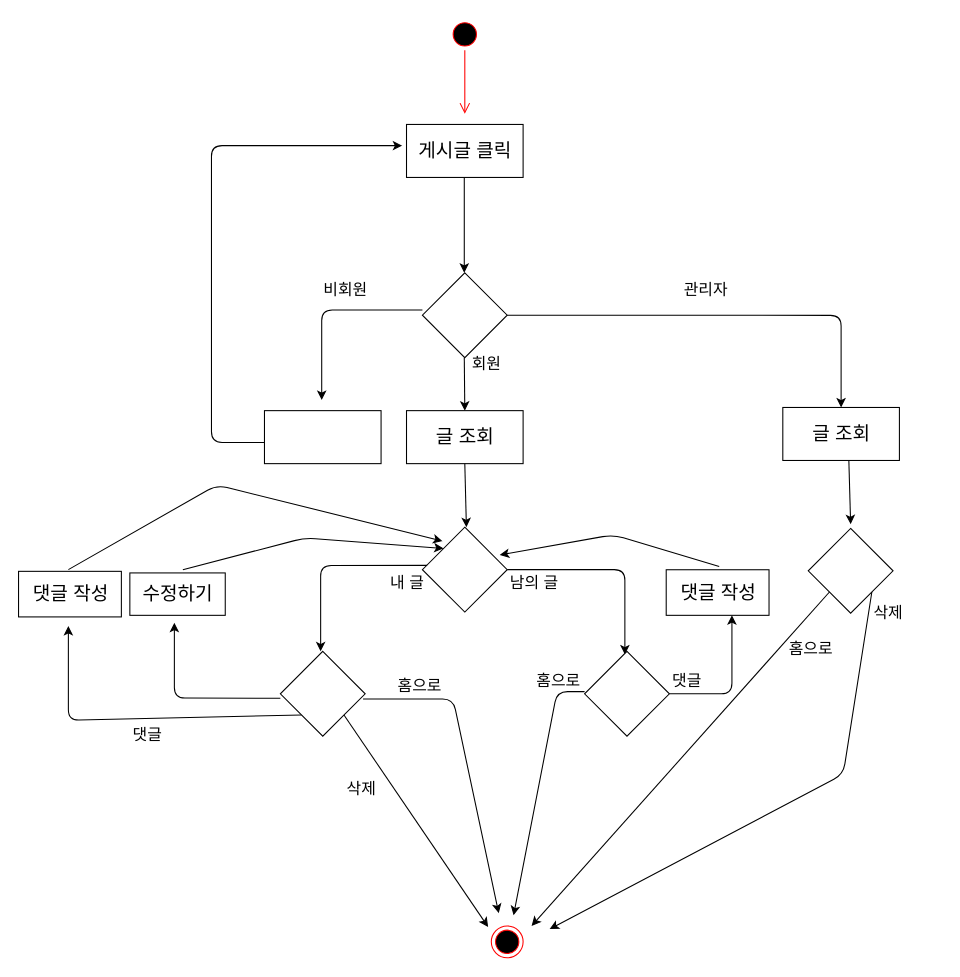
Image size: 960x977. Some labels were removed from this diagram. Each missing label, with the centre of its shape:
"로그인" goes at (x=322, y=437).
"수정" goes at (x=322, y=693).
